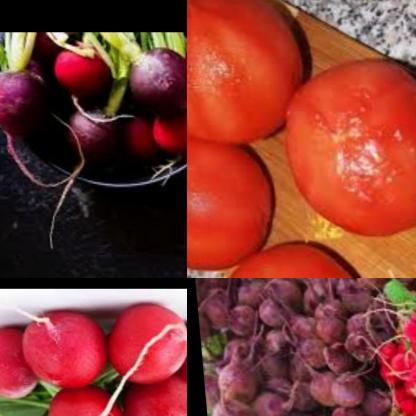beet: (188, 278, 416, 416)
rediska: (348, 278, 416, 416), (99, 304, 187, 387), (16, 312, 107, 392), (120, 36, 187, 111), (45, 34, 113, 102), (59, 105, 120, 172), (0, 62, 44, 143), (110, 373, 187, 416), (0, 324, 36, 401), (112, 107, 159, 165), (38, 387, 125, 416), (144, 103, 187, 157), (172, 321, 187, 389)
tomato: (279, 49, 416, 242), (187, 0, 305, 146), (187, 130, 275, 275), (204, 230, 383, 278)
